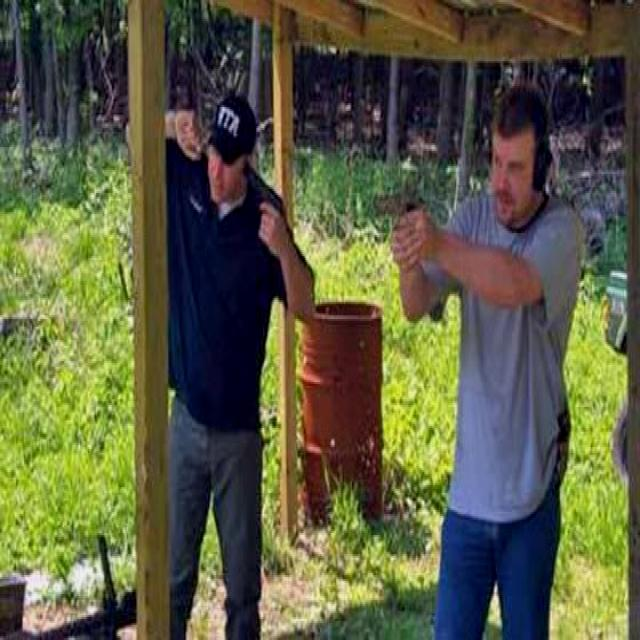pistol: (364, 164, 431, 264), (245, 155, 290, 239)
